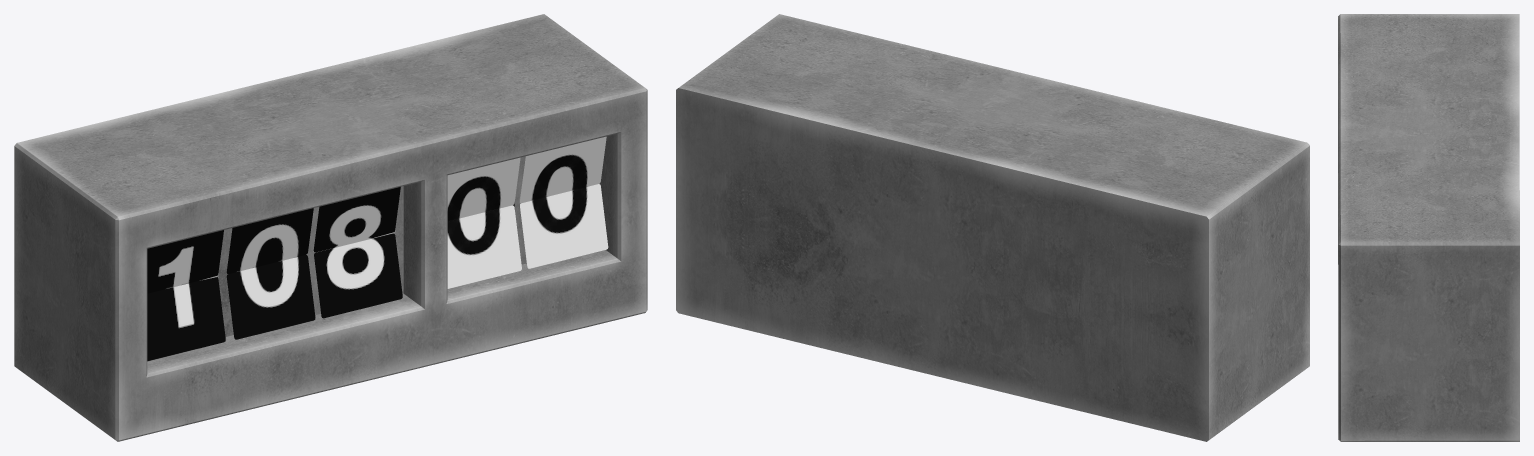
Rendered from countdown_clock.glb.
The picture shows the model from 3 angles, left to right: view 1: azimuth 30°, elevation 25°; view 2: azimuth 150°, elevation 25°; view 3: azimuth 270°, elevation 25°; orthographic projection. The views are drawn at different scales.
Parts seen in each view (by area): view 1: Plane.018_Baked; view 2: Plane.018_Baked; view 3: Plane.018_Baked.
Part boxes in pixels (x1,y1,x2,y2): Plane.018_Baked: (14, 14, 647, 441); Plane.018_Baked: (676, 14, 1309, 441); Plane.018_Baked: (1338, 14, 1519, 441).
Bounding box in the file's own units: 0.7308 × 0.2952 × 0.2438.
Materials: 1 (1 with a texture image).
